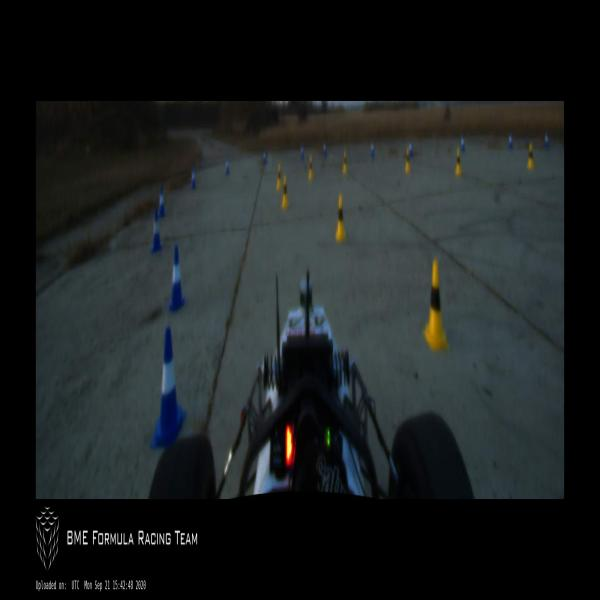blue_cone: (150, 328, 186, 447), (165, 245, 185, 312), (151, 208, 162, 251), (158, 188, 165, 217), (191, 167, 196, 189), (225, 156, 230, 174), (508, 132, 513, 150), (544, 130, 549, 148), (408, 141, 413, 157), (323, 141, 327, 156), (371, 140, 374, 158), (263, 148, 266, 164), (300, 145, 303, 159), (461, 136, 464, 150)
yellow_cone: (424, 260, 450, 352), (335, 195, 346, 241), (281, 176, 289, 207), (455, 149, 462, 176), (527, 143, 534, 169), (276, 164, 282, 189), (342, 150, 348, 174), (308, 157, 314, 180), (405, 148, 410, 173)
